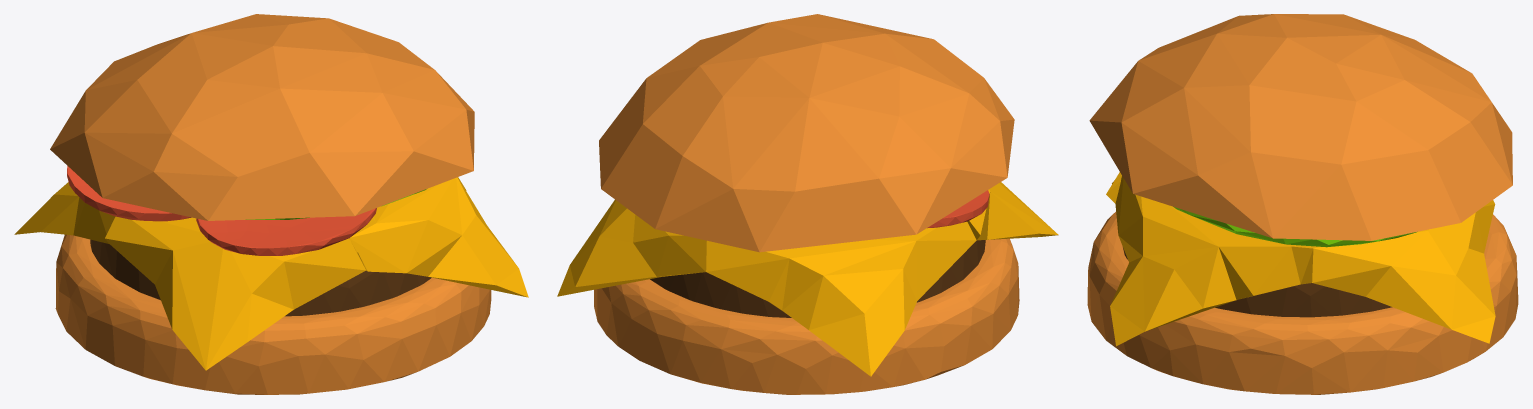
File: burger.fbx
The picture shows the model from 3 angles, left to right: view 1: azimuth 30°, elevation 25°; view 2: azimuth 150°, elevation 25°; view 3: azimuth 270°, elevation 25°; orthographic projection. The views are drawn at different scales.
Parts seen in each view (by area): view 1: Plane; view 2: Plane; view 3: Plane.
Part boxes in pixels (x1,y1,x2,y2): Plane: (14,14,528,394); Plane: (557,14,1058,394); Plane: (1087,14,1518,394).
Size of the model in its own units: 19.6 by 13.21 by 19.59.
